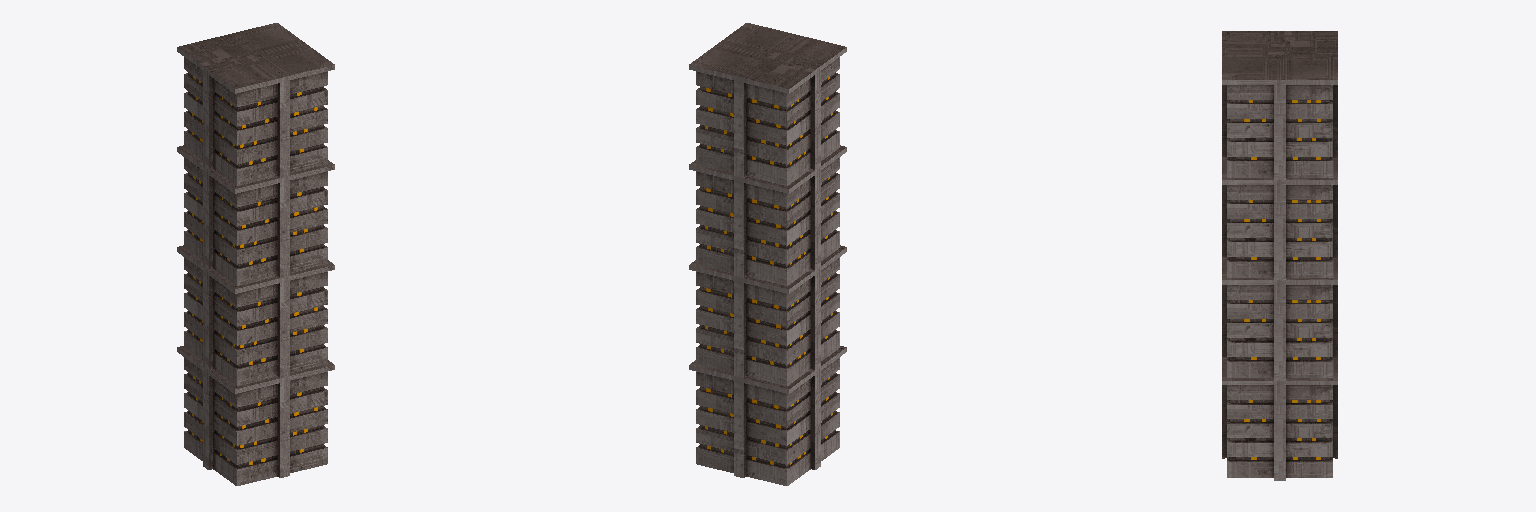
The picture shows the model from 3 angles: view 1: azimuth 30°, elevation 25°; view 2: azimuth 150°, elevation 25°; view 3: azimuth 270°, elevation 25°; orthographic projection.
Parts seen in each view (by area): view 1: sci-building4_Cube.002; view 2: sci-building4_Cube.002; view 3: sci-building4_Cube.002.
Boxes of the visible parts, x1,y1,x2,y2 form: sci-building4_Cube.002: [177, 23, 334, 485]; sci-building4_Cube.002: [689, 23, 846, 485]; sci-building4_Cube.002: [1222, 31, 1337, 480].
Size of the model in its own units: 2.2 by 8.4 by 2.2.
Materials: 1 (1 with a texture image).